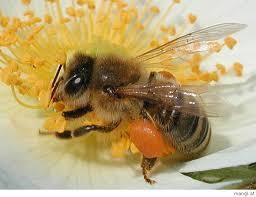Apis-mellifera-scutellata: (44, 20, 242, 184)
